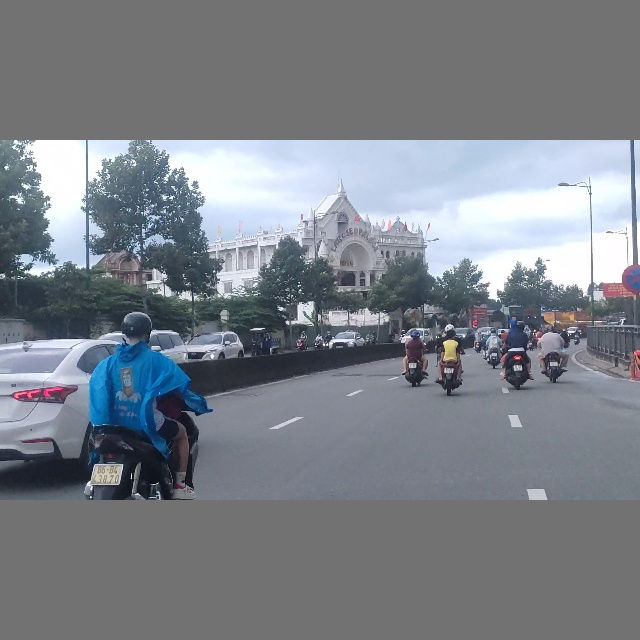P.130: (622, 265, 640, 293)
